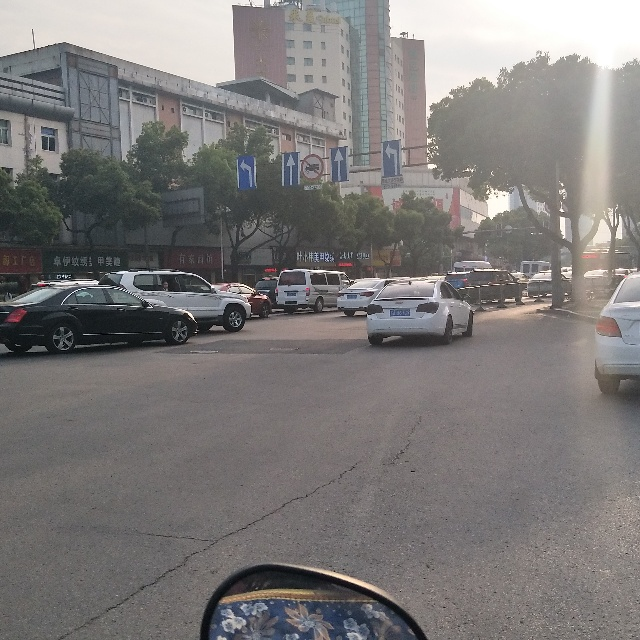left: (380, 143, 402, 180), (235, 156, 258, 191)
straight: (281, 150, 303, 187), (333, 147, 348, 177)
